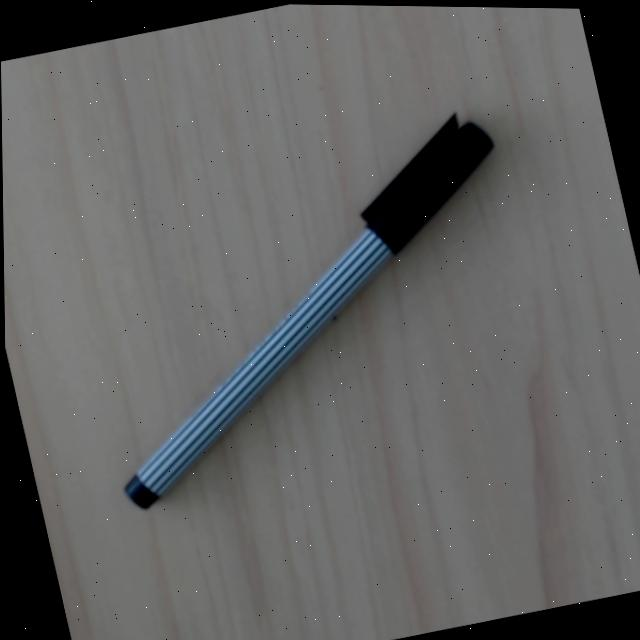Pulpen-Garis-Hitam: (117, 106, 497, 524)
